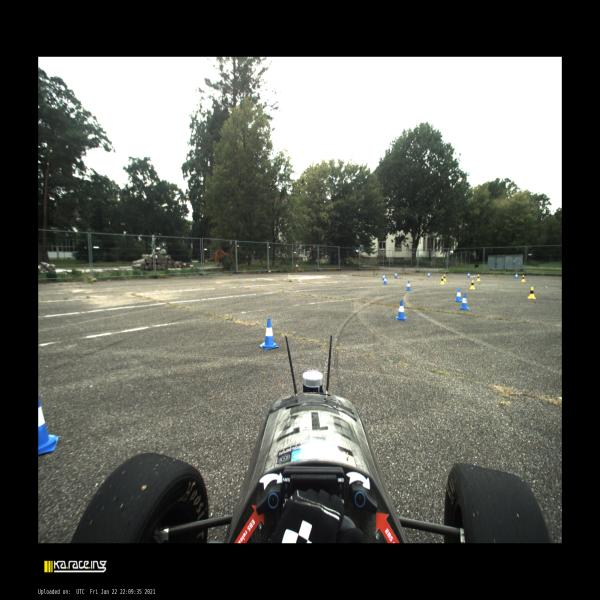blue_cone: (38, 395, 58, 456), (259, 318, 279, 350), (396, 300, 406, 320), (460, 294, 469, 310), (454, 288, 462, 302), (406, 280, 412, 290), (383, 276, 387, 284), (394, 272, 398, 278), (382, 273, 385, 280), (427, 272, 430, 278), (467, 272, 470, 278), (515, 273, 518, 279)
yellow_cone: (528, 286, 536, 300), (469, 280, 475, 290), (440, 276, 445, 284), (521, 275, 525, 282), (476, 274, 480, 281), (443, 274, 447, 281)
